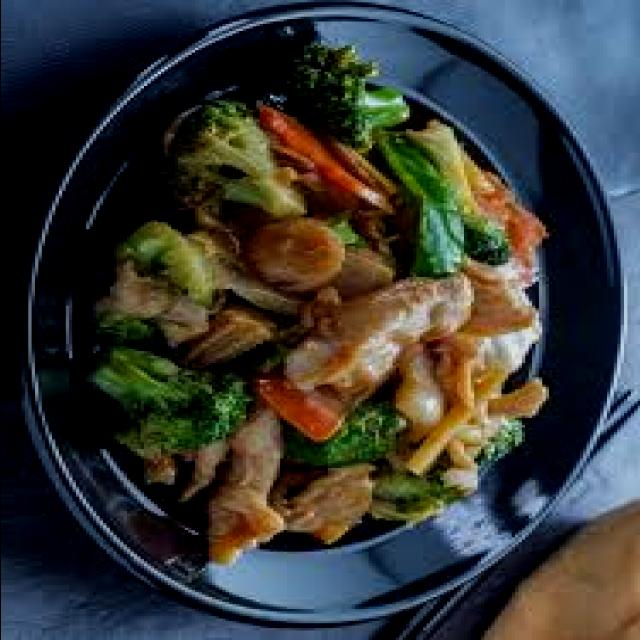capcay: (89, 45, 551, 564)
